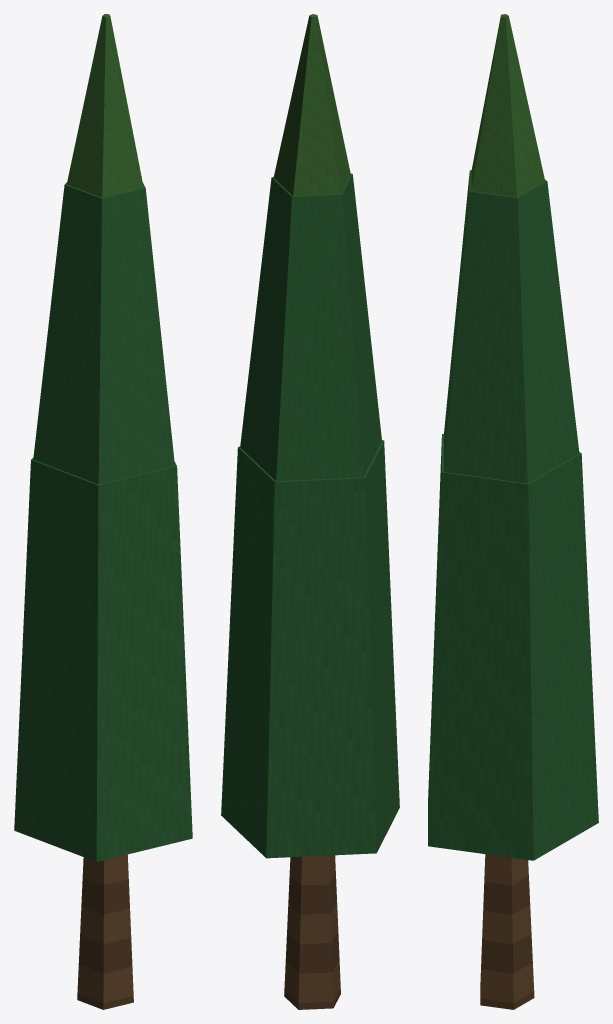
File: tree-cypress-lod1.glb
3 renders of one model, left to right at view 1: azimuth 30°, elevation 25°; view 2: azimuth 150°, elevation 25°; view 3: azimuth 270°, elevation 25°, orthographic.
Visible parts, largest first — view 1: tree-cypress-lod1; view 2: tree-cypress-lod1; view 3: tree-cypress-lod1.
Part boxes in pixels (<box>): tree-cypress-lod1: <box>14,14,192,1009</box>; tree-cypress-lod1: <box>221,14,399,1009</box>; tree-cypress-lod1: <box>428,14,598,1009</box>.
Bounding box in the file's own units: 0.8369 × 5.05 × 0.796.
1 material, 1 textured.
